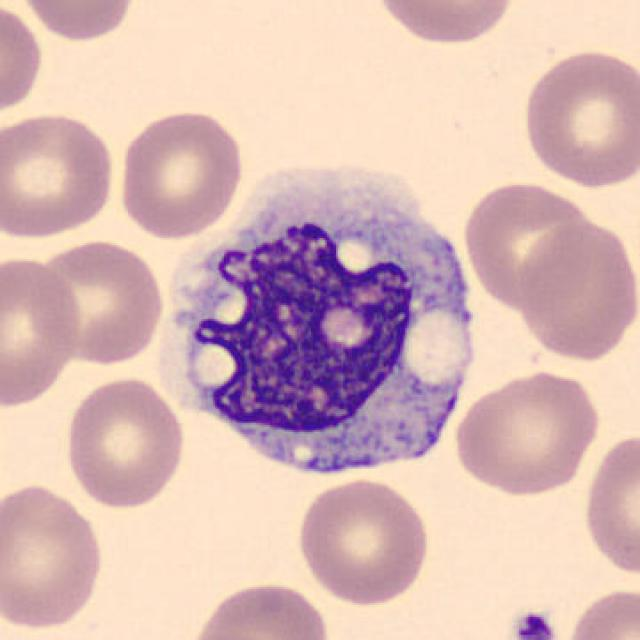Monocyte: (154, 157, 482, 494)
Platelets: (508, 608, 560, 640)
RBC: (450, 367, 602, 497), (27, 234, 169, 368), (293, 474, 434, 606), (460, 177, 598, 310), (114, 106, 247, 242), (516, 217, 638, 365), (60, 374, 188, 511), (519, 44, 638, 190), (0, 478, 107, 633), (0, 108, 119, 242), (0, 250, 85, 412), (184, 576, 334, 640), (580, 428, 638, 580), (370, 0, 521, 48), (0, 0, 46, 120), (15, 0, 140, 44), (561, 583, 638, 640)
